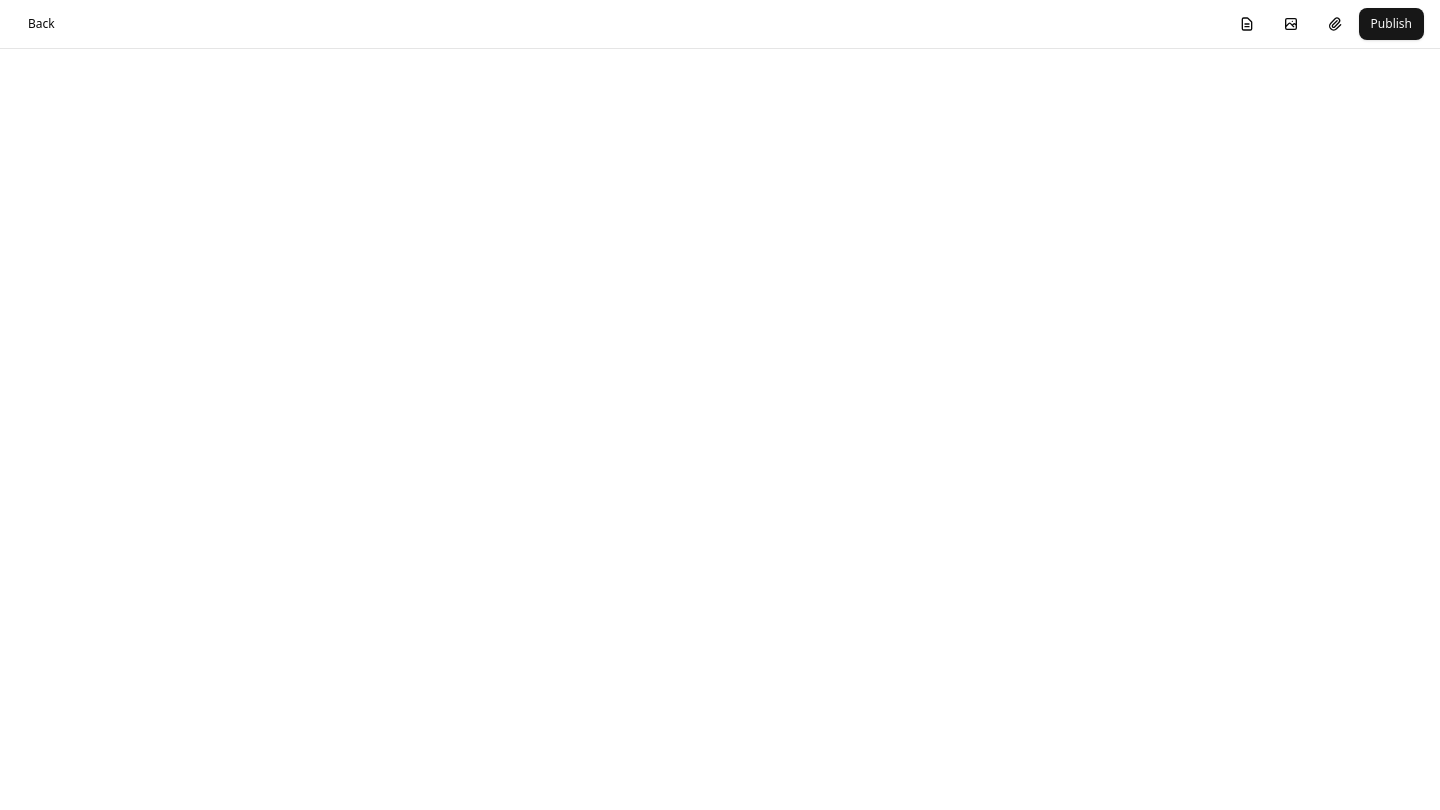
Test: ComposePage › draftPreview helper › extracts text from paragraph blocks for preview
This screenshot has width=1440, height=810.
Step 1. Click the button with test id "drafts-btn" → x=1247, y=24, box [1227,8,1267,40]
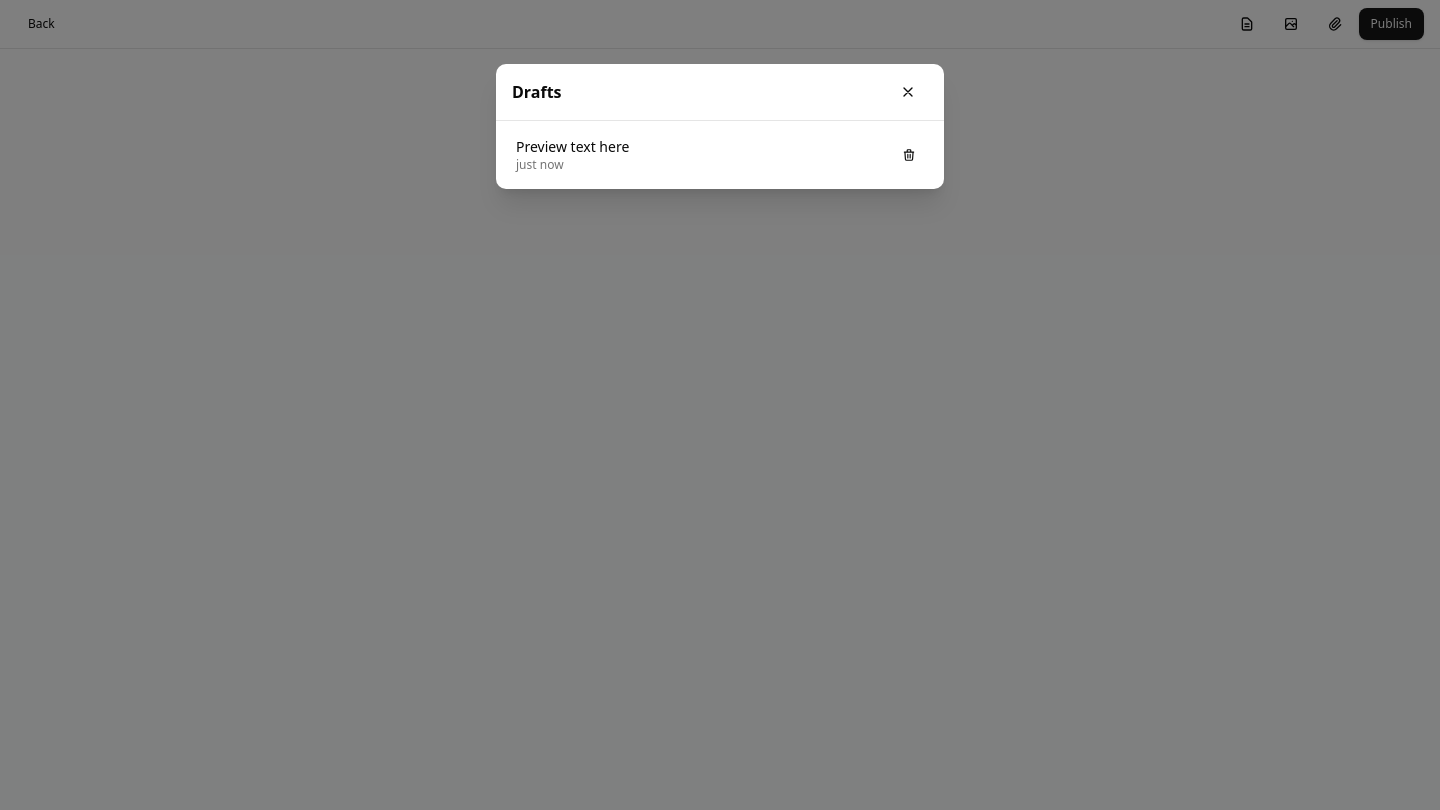
Now the text "Preview text here" is shown, box [516,137,629,156]
